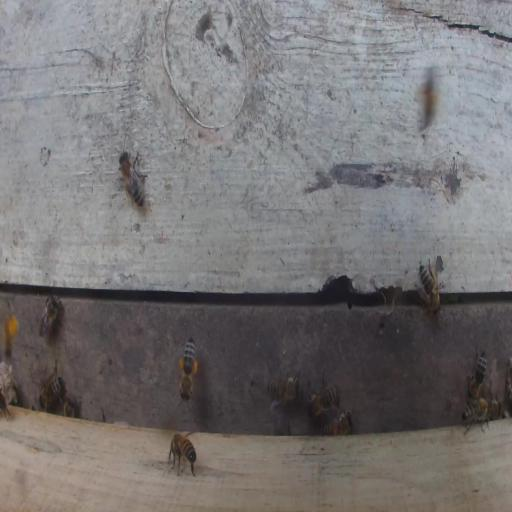bee: (118, 150, 150, 210), (415, 255, 441, 317), (417, 67, 442, 130), (307, 376, 339, 419), (169, 429, 197, 478), (179, 336, 199, 403), (461, 397, 491, 437), (39, 366, 63, 411), (268, 375, 300, 408), (38, 293, 61, 338), (1, 302, 18, 359), (467, 349, 486, 399), (323, 410, 353, 436), (62, 397, 81, 418), (0, 388, 11, 420), (488, 397, 502, 420)
